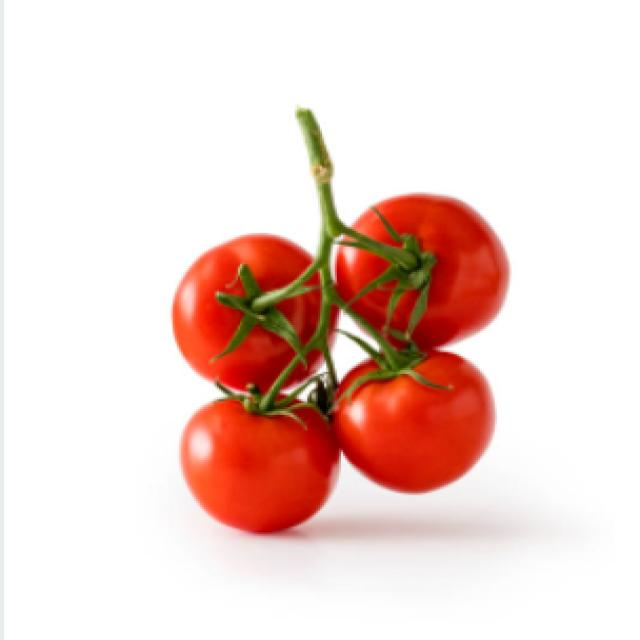Tomato: (170, 369, 345, 532), (333, 328, 499, 487), (340, 196, 506, 344), (176, 230, 328, 390)
